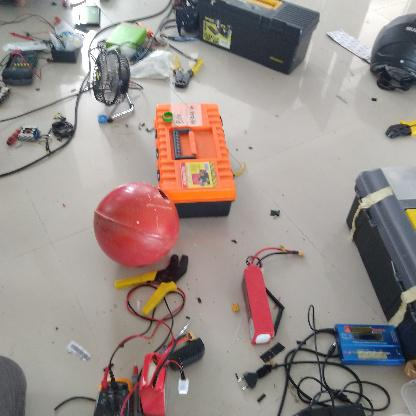red_buoy: (92, 181, 180, 269)
